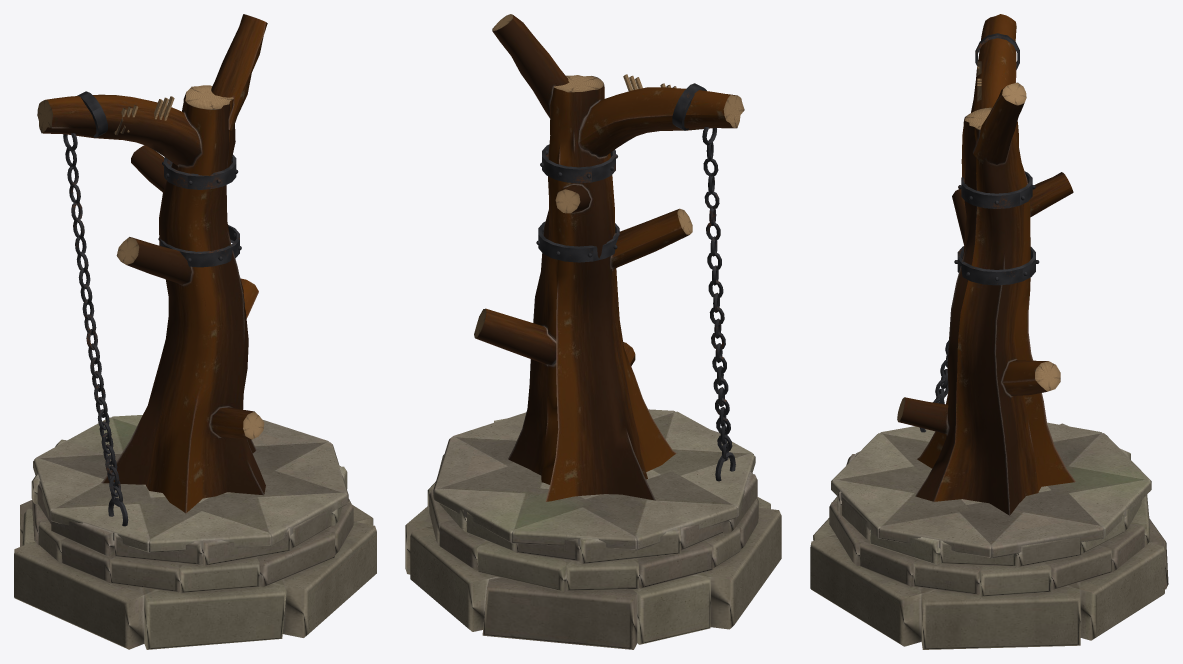
Rendered from PosatoioDrago.fbx.
The picture shows the model from 3 angles, left to right: view 1: azimuth 30°, elevation 25°; view 2: azimuth 150°, elevation 25°; view 3: azimuth 270°, elevation 25°; orthographic projection. The views are drawn at different scales.
Parts seen in each view (by area): view 1: Posatoio_Base, Posatoio_Tronco, Posatoio_Ferro, Posatoio_Tagli; view 2: Posatoio_Base, Posatoio_Tronco, Posatoio_Ferro, Posatoio_Tagli; view 3: Posatoio_Base, Posatoio_Tronco, Posatoio_Ferro, Posatoio_Tagli.
Part boxes in pixels (left/top/right/bottom): Posatoio_Base: left=14, top=415, right=376, bottom=649; Posatoio_Tronco: left=42, top=14, right=267, bottom=513; Posatoio_Ferro: left=63, top=91, right=241, bottom=526; Posatoio_Tagli: left=37, top=85, right=264, bottom=439; Posatoio_Base: left=405, top=409, right=781, bottom=649; Posatoio_Tronco: left=475, top=15, right=737, bottom=501; Posatoio_Ferro: left=536, top=83, right=735, bottom=481; Posatoio_Tagli: left=474, top=14, right=744, bottom=337; Posatoio_Base: left=810, top=422, right=1168, bottom=649; Posatoio_Tronco: left=898, top=14, right=1075, bottom=515; Posatoio_Ferro: left=919, top=33, right=1039, bottom=432; Posatoio_Tagli: left=897, top=61, right=1060, bottom=421.
Size of the model in its own units: 381 by 636 by 391.
